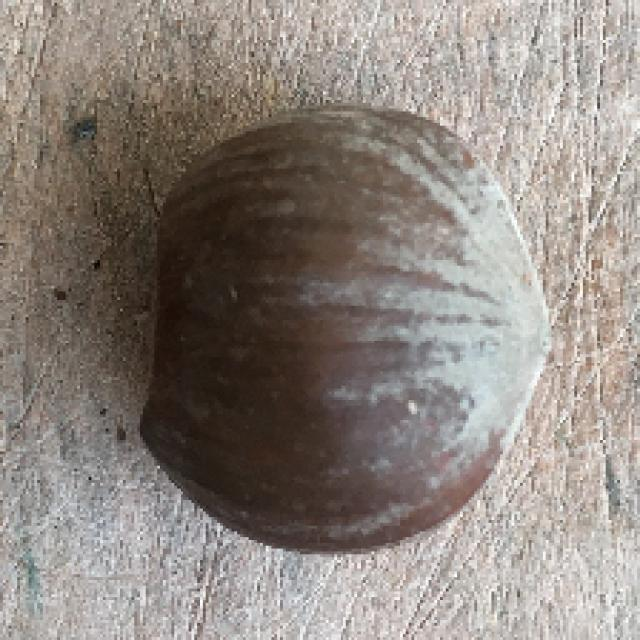damagedHazelnut: (120, 100, 550, 562)
